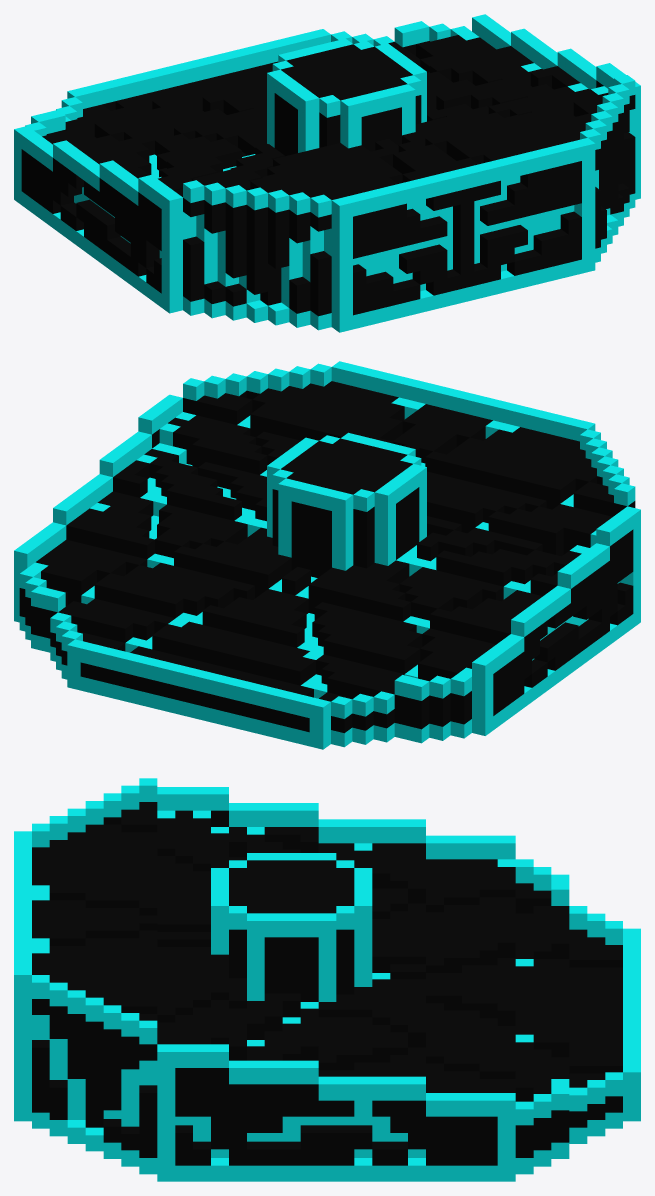
The model's file is BlasterTurretStand.FBX.
3 views of the same model, one above another, from view 1: azimuth 30°, elevation 25°; view 2: azimuth 150°, elevation 25°; view 3: azimuth 270°, elevation 25° (orthographic). The views are drawn at different scales.
Parts seen in each view (by area): view 1: BlasterTurretStand; view 2: BlasterTurretStand; view 3: BlasterTurretStand.
Boxes of the visible parts, x1=… form: BlasterTurretStand: x1=14, y1=14, x2=640, y2=332; BlasterTurretStand: x1=14, y1=361, x2=640, y2=749; BlasterTurretStand: x1=14, y1=778, x2=640, y2=1181.
Size of the model in its own units: 35 by 35 by 10.
